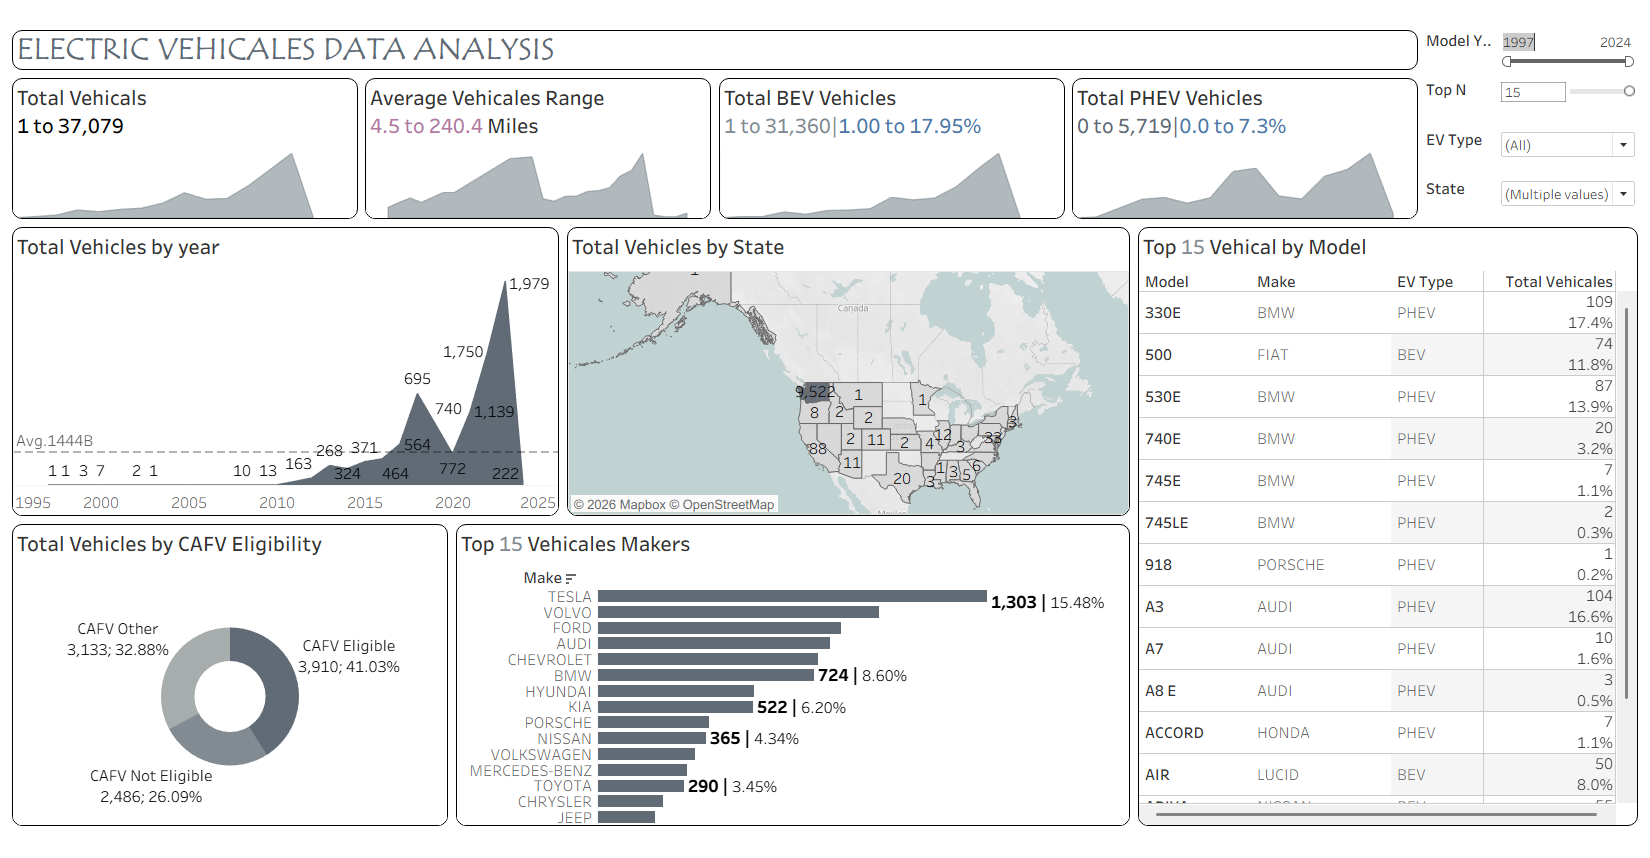

The page's visual inventory and layout, read from the dashboard file:
{"tool":"tableau","page":{"name":"Electric Vehicles Data Analysis","canvas":[1650,820],"ordinal":0},"visuals":[{"type":"title","box":[8,8,1414,48]},{"type":"filter","title":"KPI Avg Milage","param":"[federated.18glfuz1gmh1ov1e4espp1qf8lj5].[none:Model Year:qk]","box":[1422,8,220,49.2]},{"type":"worksheet","title":"KPI Total Vehicales","mark":"Area","rows":["DOL Vehicle ID"],"cols":["Model Year"],"box":[8,56,353.5,149]},{"type":"worksheet","title":"KPI Avg Milage","mark":"Area","rows":["Electric Range"],"cols":["Model Year"],"box":[361.5,56,353.5,149]},{"type":"worksheet","title":"Total BEV Vehicles","mark":"Area","rows":["Calculation_1875792841838613"],"cols":["Model Year"],"box":[715,56,353.5,149]},{"type":"worksheet","title":"Total PHEV Vehicles","mark":"Area","rows":["Calculation_1875792843087894"],"cols":["Model Year"],"box":[1068.5,56,353.5,149]},{"type":"parameter","param":"[Parameters].[Parameter 1875792830402572]","box":[1422,57.3,220,49.2]},{"type":"filter","title":"Top N Vehicles Maker","param":"[federated.18glfuz1gmh1ov1e4espp1qf8lj5].[none:Electric Vehicle Type:nk]","box":[1422,106.5,220,49.2]},{"type":"filter","title":"Top N Vehicles Maker","param":"[federated.18glfuz1gmh1ov1e4espp1qf8lj5].[none:State:nk]","box":[1422,155.8,220,49.2]},{"type":"worksheet","title":"Total Vehicles by year","mark":"Area","rows":["DOL Vehicle ID"],"cols":["Model Year"],"box":[8,205,555,296.5]},{"type":"worksheet","title":"Total Vehicles by State","mark":"Multipolygon","box":[563,205,571,296.5]},{"type":"worksheet","title":"Top 10 Total Vehicles by Model","mark":"Automatic","rows":["Model","Make","Electric Vehicle Type"],"box":[1134,205,508,607]},{"type":"worksheet","title":"Total Vehicles by CAFV Eligibility","mark":"Pie","rows":["Calculation_1875792832057358","Calculation_1875792832122896"],"box":[8,501.5,444,310.5]},{"type":"worksheet","title":"Top N Vehicles Maker","mark":"Automatic","rows":["Make"],"cols":["Calculation_1875792691486726"],"box":[452,501.5,682,310.5]}]}

Visuals, with their boxes in screenshot pixels (x1, y1, x2, y2):
title: 12 25 1407 72
"KPI Avg Milage" filter: 1407 25 1624 74
"KPI Total Vehicales" worksheet (Area marks): 12 72 361 219
"KPI Avg Milage" worksheet (Area marks): 361 72 709 219
"Total BEV Vehicles" worksheet (Area marks): 709 72 1058 219
"Total PHEV Vehicles" worksheet (Area marks): 1058 72 1407 219
parameter: 1407 74 1624 122
"Top N Vehicles Maker" filter: 1407 122 1624 171
"Top N Vehicles Maker" filter: 1407 171 1624 219
"Total Vehicles by year" worksheet (Area marks): 12 219 560 512
"Total Vehicles by State" worksheet (Multipolygon marks): 560 219 1123 512
"Top 10 Total Vehicles by Model" worksheet: 1123 219 1624 818
"Total Vehicles by CAFV Eligibility" worksheet (Pie marks): 12 512 450 818
"Top N Vehicles Maker" worksheet: 450 512 1123 818
